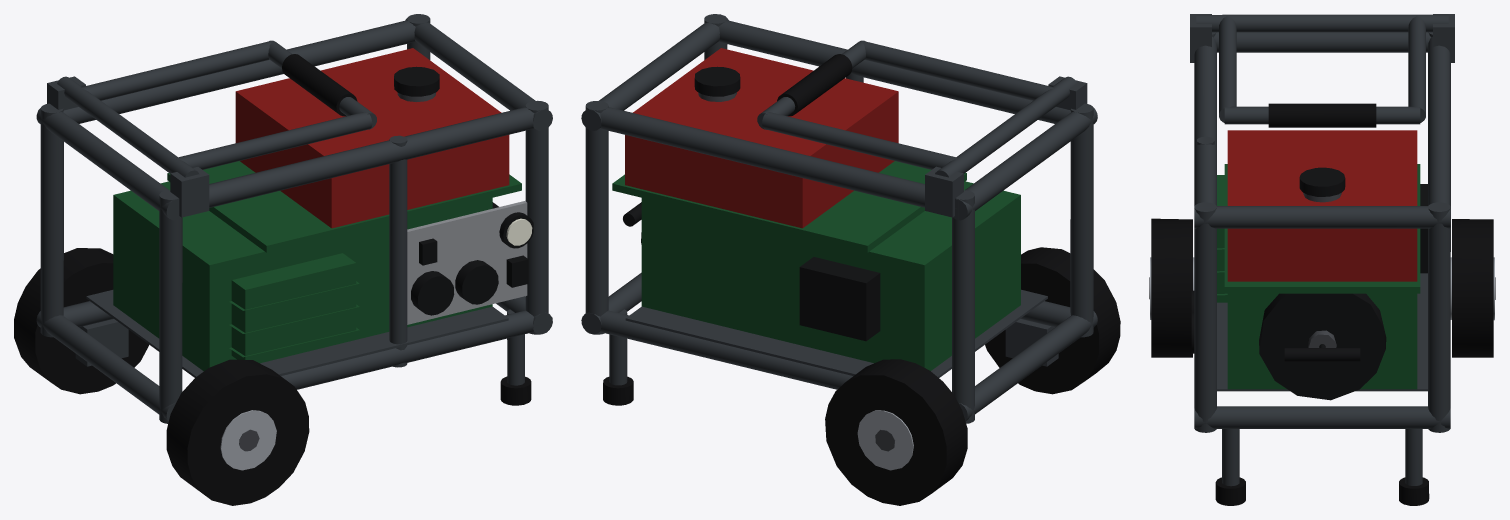
Rendered from generator.glb.
The picture shows the model from 3 angles, left to right: view 1: azimuth 30°, elevation 25°; view 2: azimuth 150°, elevation 25°; view 3: azimuth 270°, elevation 25°; orthographic projection.
Visible parts, largest first — view 1: frame, engine, fuel_tank, wheel_left, carry_handle, wheel_right; view 2: frame, engine, fuel_tank, wheel_right, carry_handle, wheel_left; view 3: frame, fuel_tank, engine, carry_handle, wheel_right, wheel_left, starter_handle.
Part boxes in pixels (x1,y1,x2,y2): frame: (36,14,552,423); engine: (113,161,521,371); fuel_tank: (235,48,509,228); wheel_left: (166,359,309,505); carry_handle: (57,40,376,177); wheel_right: (14,248,148,394); frame: (581,14,1097,423); engine: (612,161,1020,370); fuel_tank: (625,48,898,228); wheel_right: (825,359,967,505); carry_handle: (757,40,1077,177); wheel_left: (985,247,1120,394); frame: (1190,14,1454,505); fuel_tank: (1227,130,1417,281); engine: (1217,164,1427,400); carry_handle: (1196,14,1448,127); wheel_right: (1450,219,1495,357); wheel_left: (1149,218,1194,357); starter_handle: (1284,344,1360,361).
Size of the model in its own units: 0.7057 by 0.564 by 0.548.
